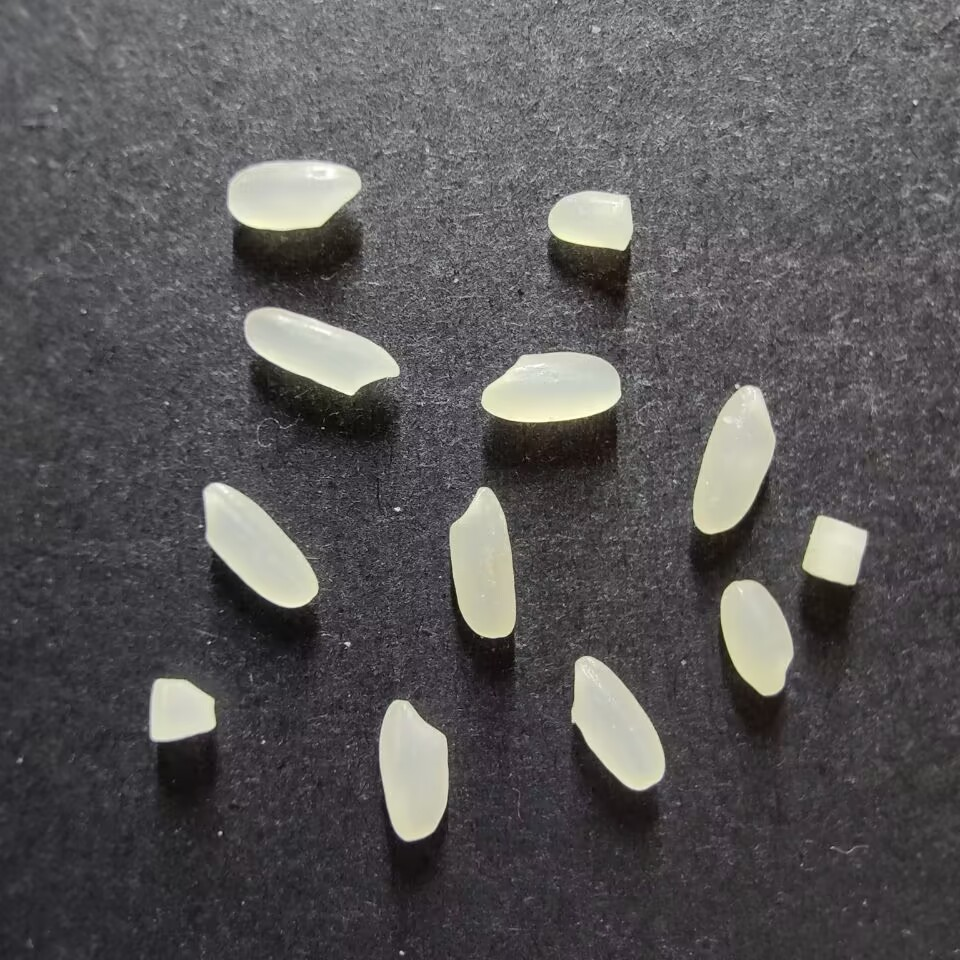broken: (547, 190, 634, 251), (801, 514, 868, 586), (148, 677, 216, 742)
rice: (202, 482, 319, 608), (243, 306, 400, 397), (570, 656, 665, 792), (691, 385, 776, 535), (448, 486, 517, 639), (378, 698, 450, 841), (480, 351, 622, 423), (226, 159, 362, 231), (718, 578, 794, 696)
